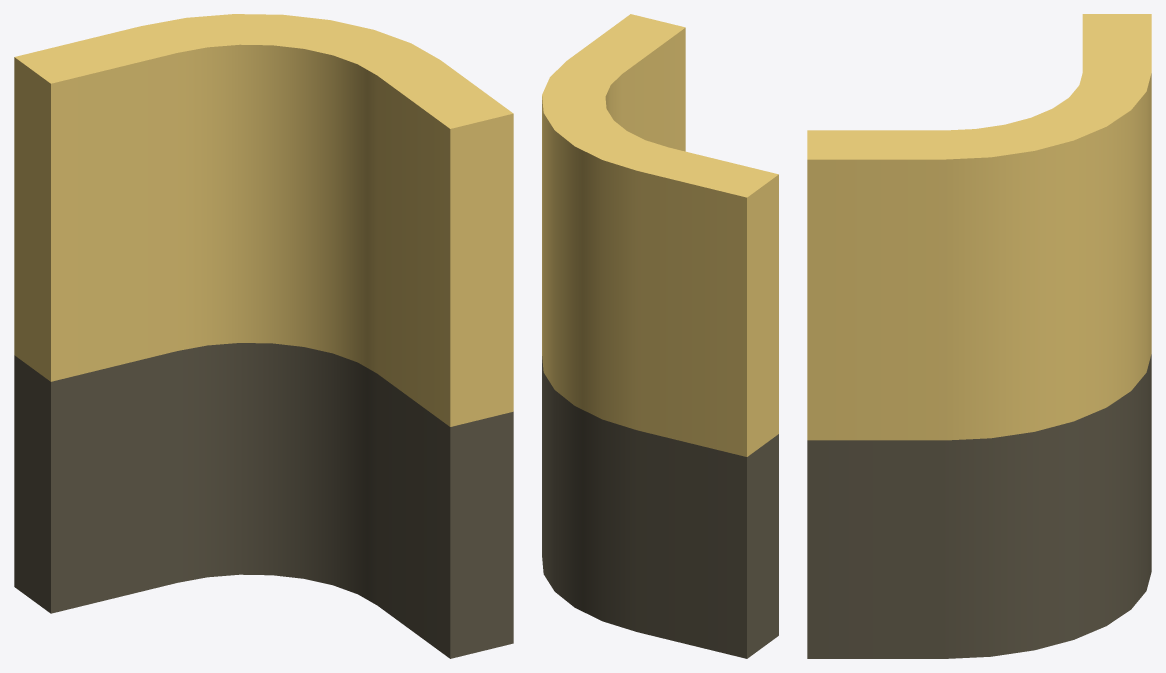
The model's file is NF_Wall_B_Corner.fbx.
3 views of the same model, side by side, from view 1: azimuth 30°, elevation 25°; view 2: azimuth 150°, elevation 25°; view 3: azimuth 270°, elevation 25° (orthographic). The views are drawn at different scales.
Parts seen in each view (by area): view 1: NF_Wall_B_Corner; view 2: NF_Wall_B_Corner; view 3: NF_Wall_B_Corner.
Boxes of the visible parts, x1=… form: NF_Wall_B_Corner: x1=14, y1=14, x2=513, y2=658; NF_Wall_B_Corner: x1=542, y1=14, x2=778, y2=658; NF_Wall_B_Corner: x1=807, y1=14, x2=1151, y2=658.
Bounding box in the file's own units: 2.5 × 4 × 2.5.
1 material, 1 textured.
